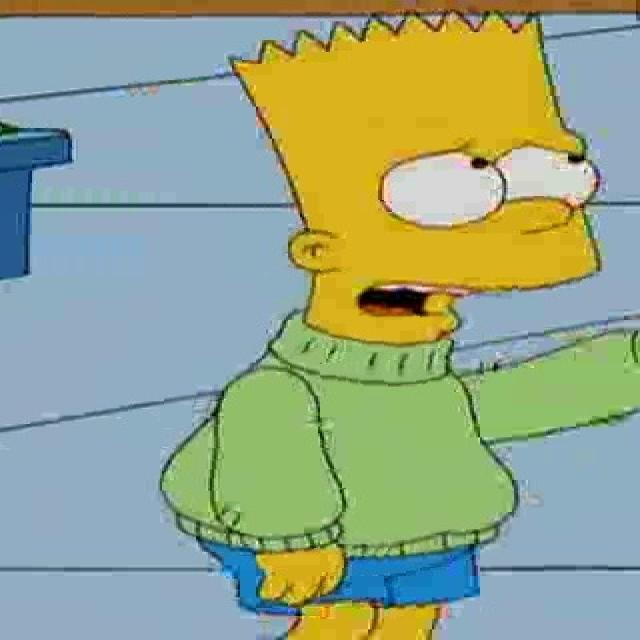Bart Simpson: (226, 4, 602, 348)
